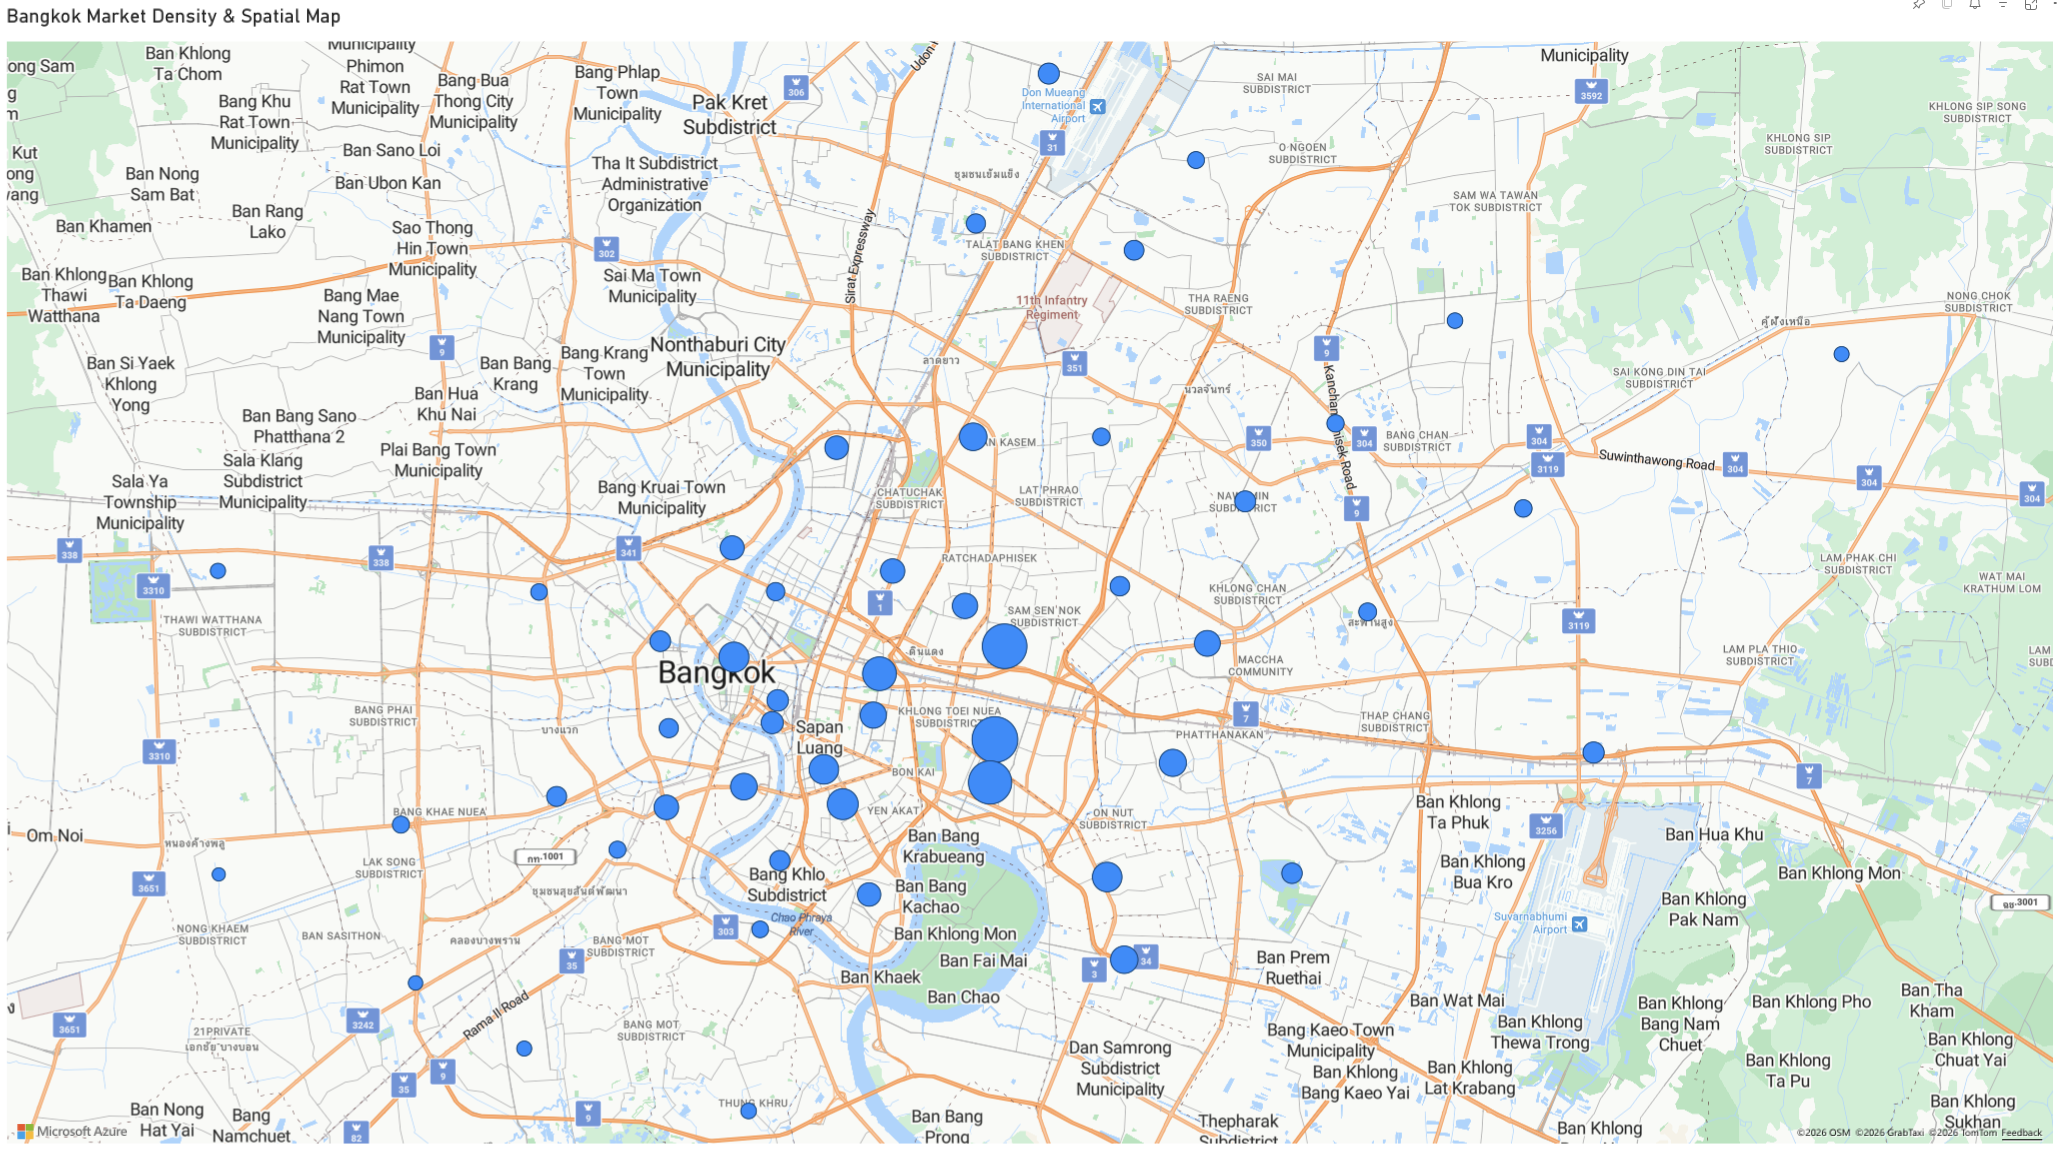

This screenshot's page, from the dashboard's own definition file:
{"tool":"powerbi","page":{"name":"Geospatial Map","canvas":[1920,1080],"ordinal":3},"visuals":[{"type":"azureMap","title":"Bangkok Market Density & Spatial Map","fields":{"Category":["dim_neighbourhood.neighbourhood_name"],"Size":["CountNonNull(fact_listings.listing_id)"],"X":["Avg(dim_neighbourhood.longitude)"],"Y":["Avg(dim_neighbourhood.latitude)"]},"box":[0,0,1920,1080.2],"z":0}]}

Visuals, with their boxes in screenshot pixels (x1, y1, x2, y2), scaled from the page's 1920x1080 canvas onto the 2057x1160 screenshot:
"Bangkok Market Density & Spatial Map" azureMap: pyautogui.locateOnScreen(0, 0, 2056, 1159)
